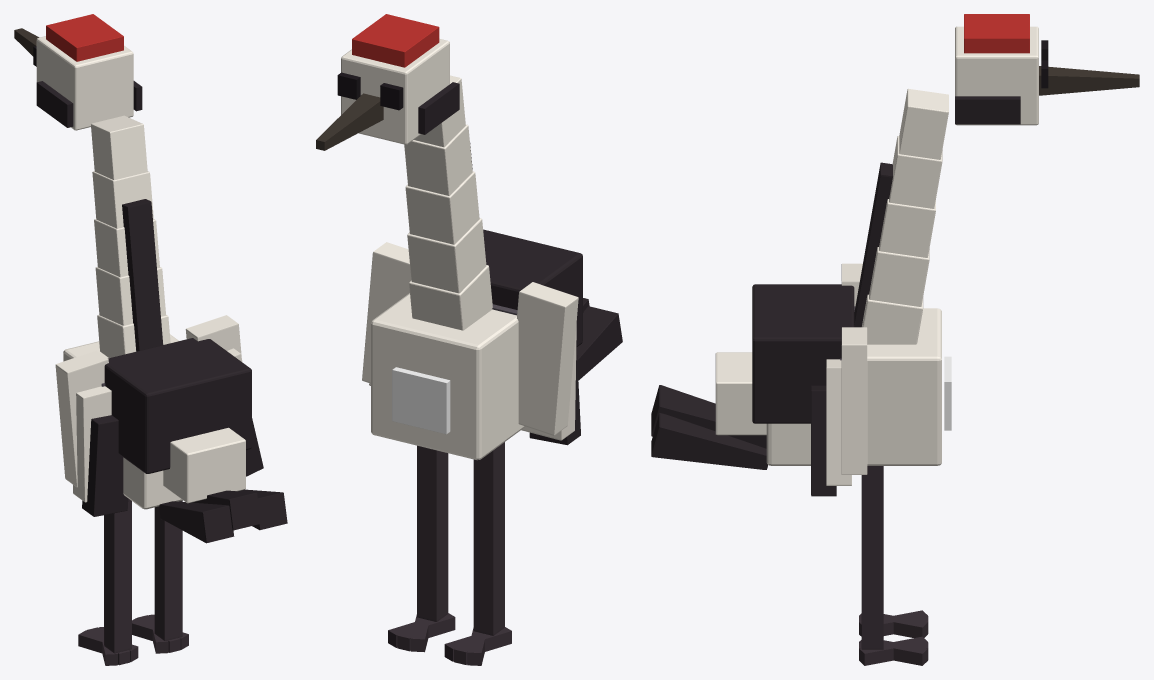
Rendered from crane.glb.
The picture shows the model from 3 angles, left to right: view 1: azimuth 30°, elevation 25°; view 2: azimuth 150°, elevation 25°; view 3: azimuth 270°, elevation 25°; orthographic projection. The views are drawn at different scales.
Visible parts, largest first — view 1: body, head, tail, wing.R, leg.FR, leg.FL, wing.L; view 2: body, head, wing.R, leg.FR, leg.FL, wing.L, tail; view 3: body, head, tail, wing.L, leg.FL, leg.FR.
Part boxes in pixels (x1,y1,x2,y2): body: (63, 115, 251, 509); head: (14, 14, 142, 130); tail: (158, 427, 287, 543); wing.R: (55, 350, 128, 516); leg.FR: (78, 498, 138, 665); leg.FL: (132, 500, 188, 653); wing.L: (185, 315, 263, 476); body: (371, 75, 582, 460); head: (316, 14, 459, 150); wing.R: (517, 282, 580, 445); leg.FR: (444, 442, 511, 665); leg.FL: (388, 445, 455, 652); wing.L: (362, 242, 411, 385); tail: (576, 298, 622, 380); body: (752, 88, 951, 465); head: (955, 14, 1139, 125); tail: (651, 352, 767, 469); wing.L: (811, 327, 867, 496); leg.FL: (859, 466, 928, 665); leg.FR: (859, 610, 928, 637).
Size of the model in its own units: 0.3288 by 1 by 0.7165.
